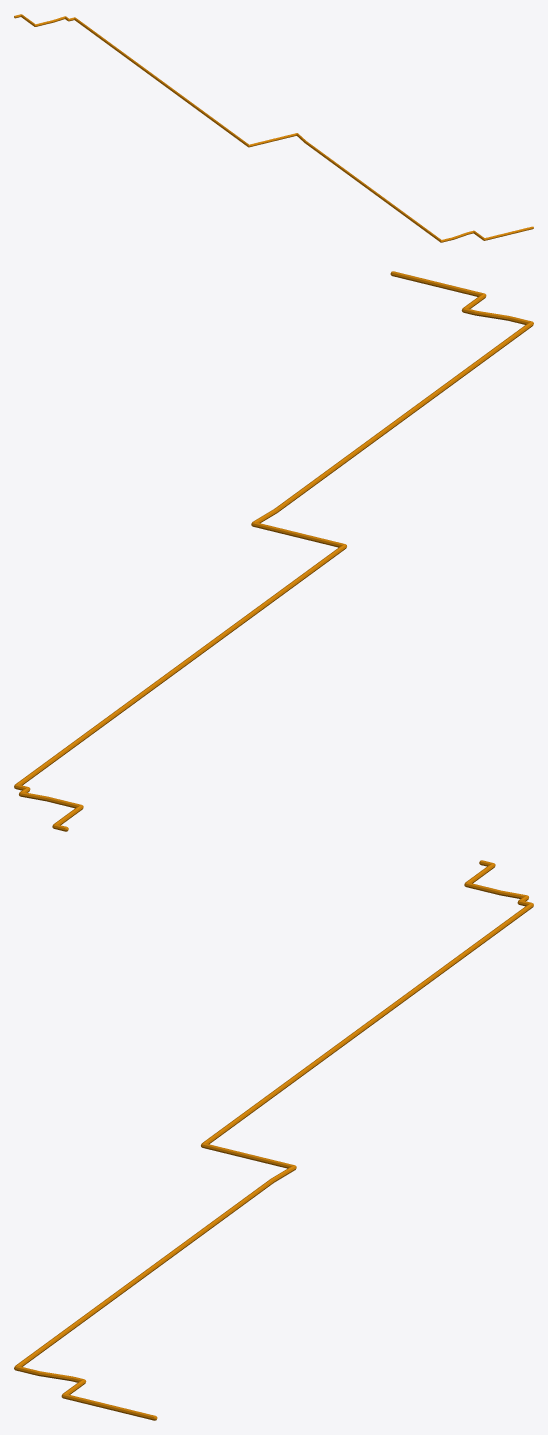
3 renders of one model, top to bottom at view 1: azimuth 30°, elevation 25°; view 2: azimuth 150°, elevation 25°; view 3: azimuth 330°, elevation 25°, orthographic. The views are drawn at different scales.
Size of the model in its own units: 1446 by 20 by 4979.
